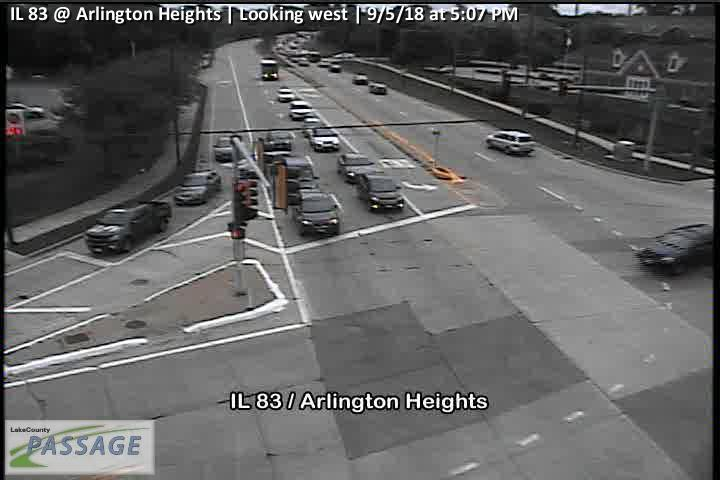SUV: (83, 201, 170, 257), (293, 190, 340, 237), (359, 172, 406, 213), (283, 156, 321, 203), (486, 130, 537, 155), (290, 100, 313, 119)
Sedan: (635, 223, 720, 273), (173, 170, 221, 205), (336, 154, 380, 184), (309, 126, 340, 151)
